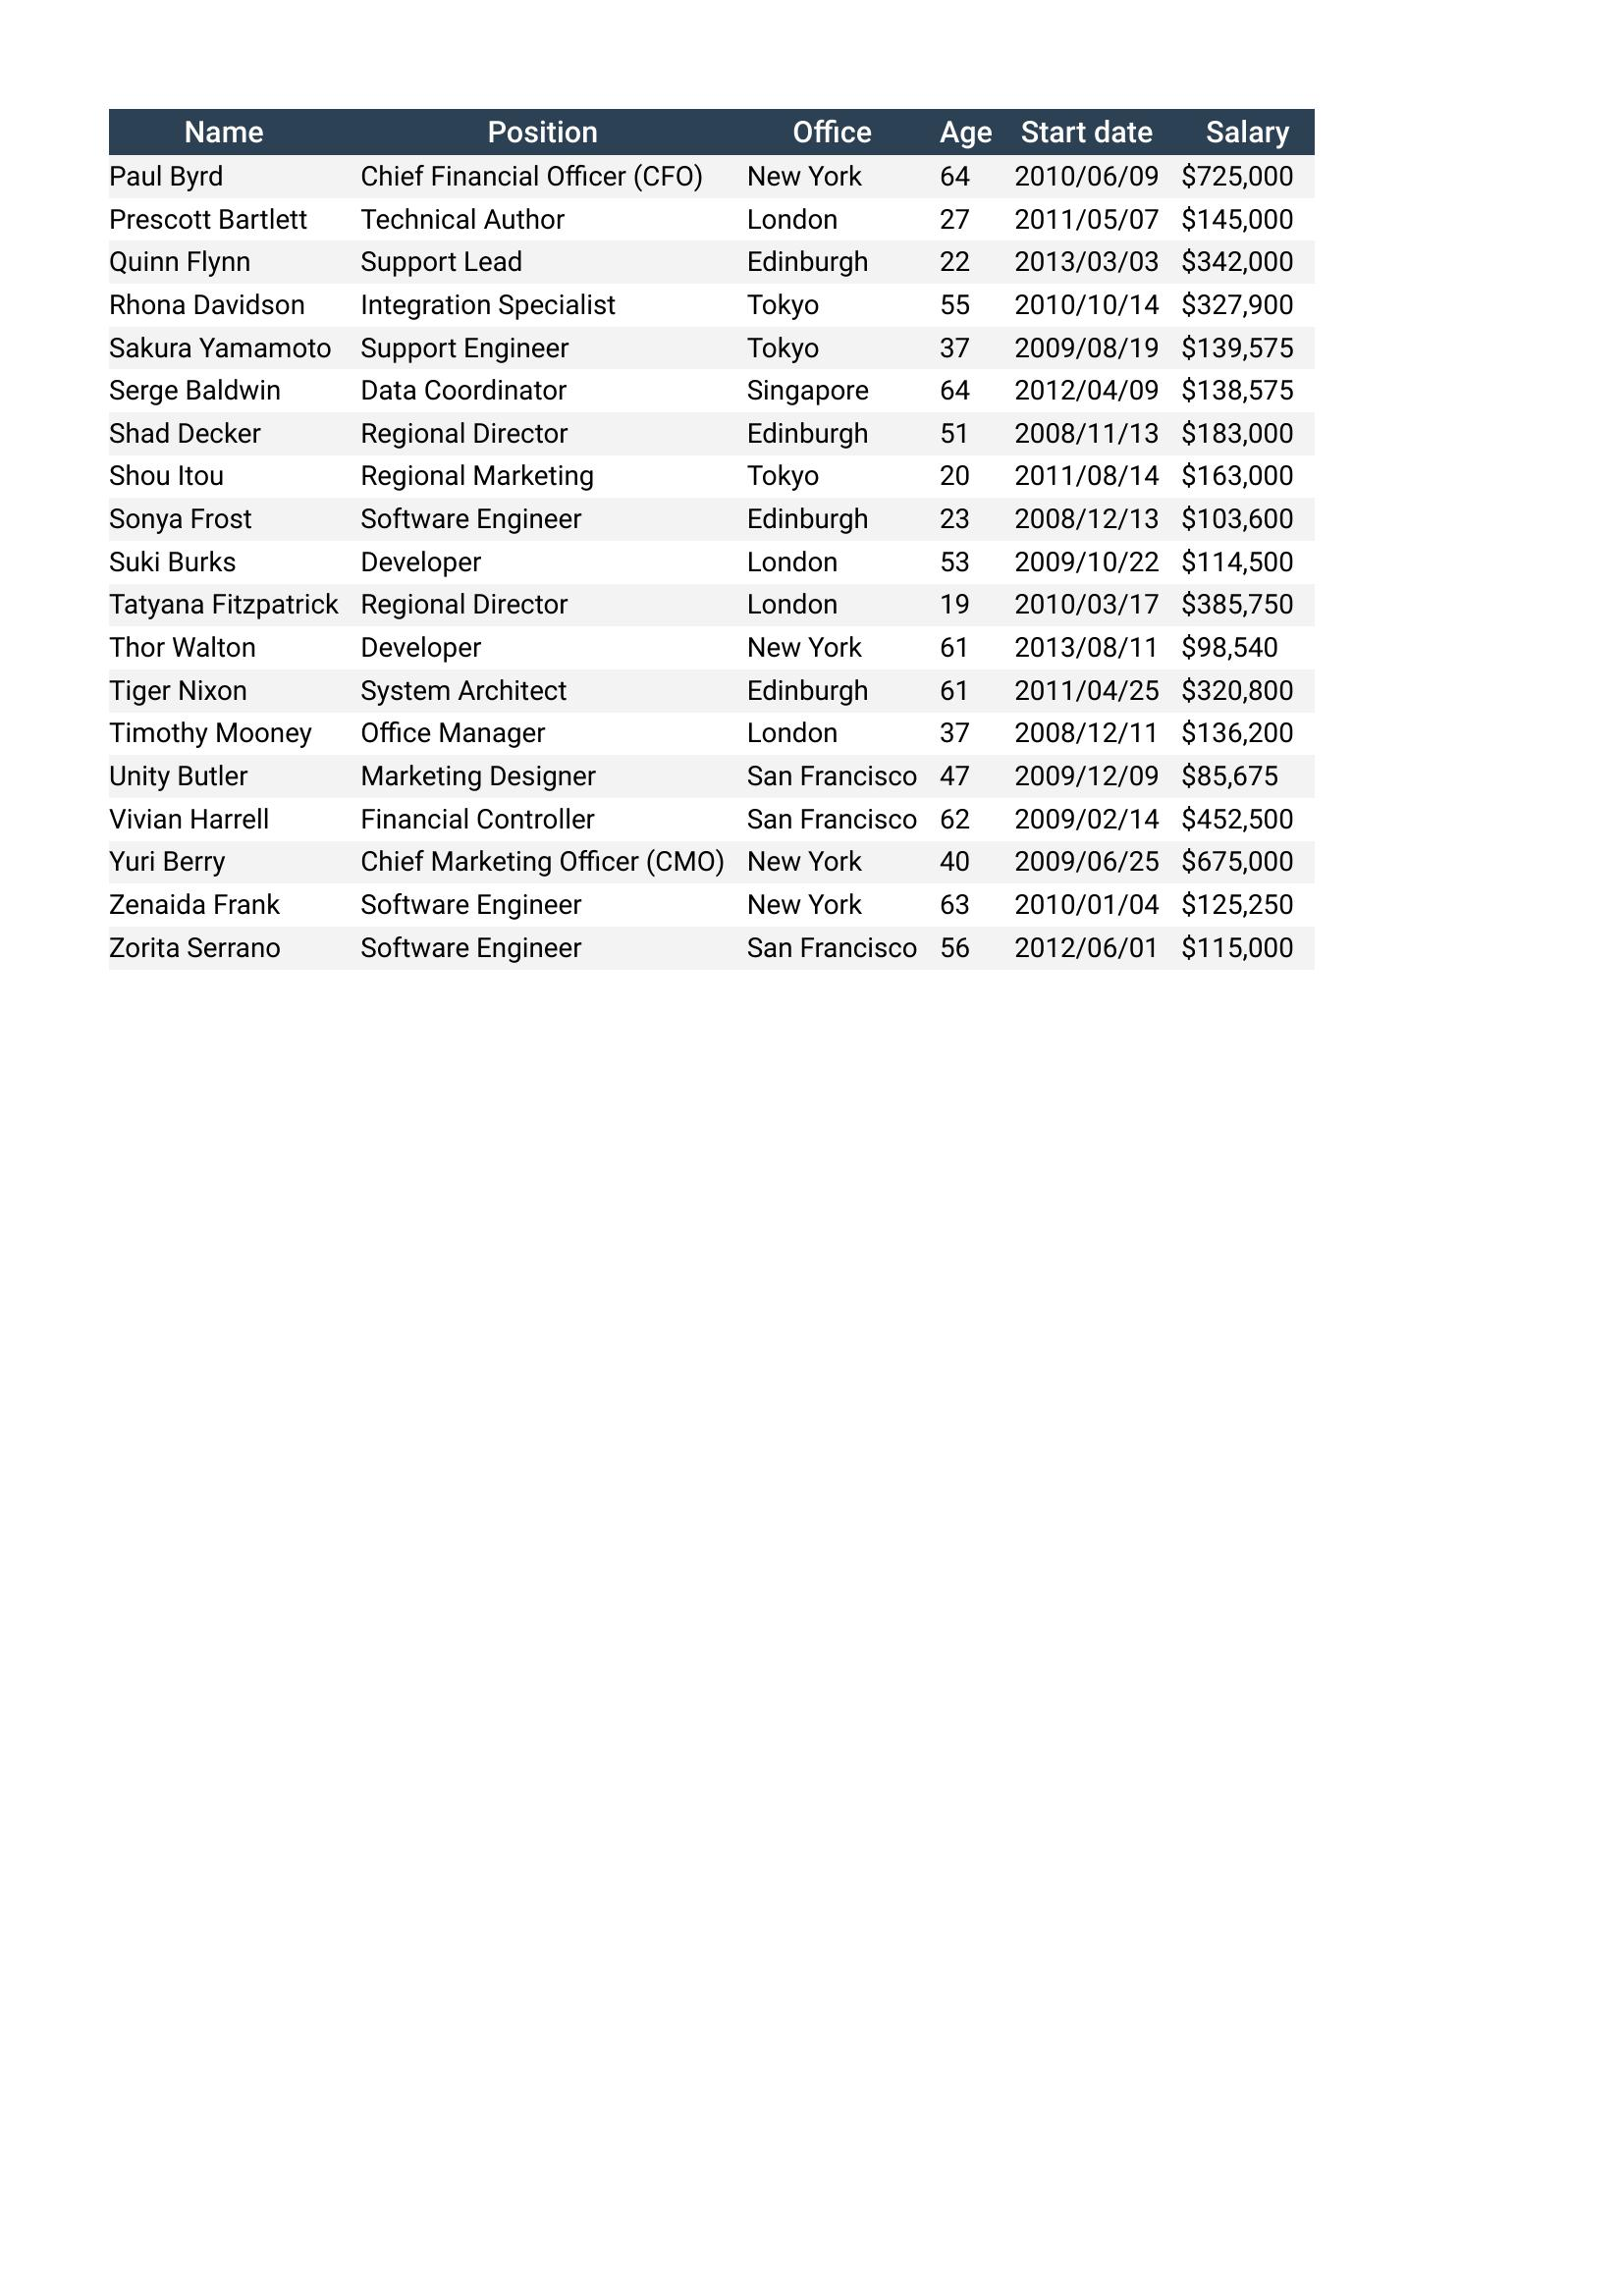table: (102, 104, 1304, 963)
